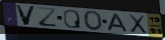A: (107, 13, 130, 33)
O: (82, 10, 104, 32)
Q: (63, 9, 83, 30)
V: (14, 4, 38, 26)
X: (127, 13, 149, 35)
Z: (35, 6, 59, 28)
